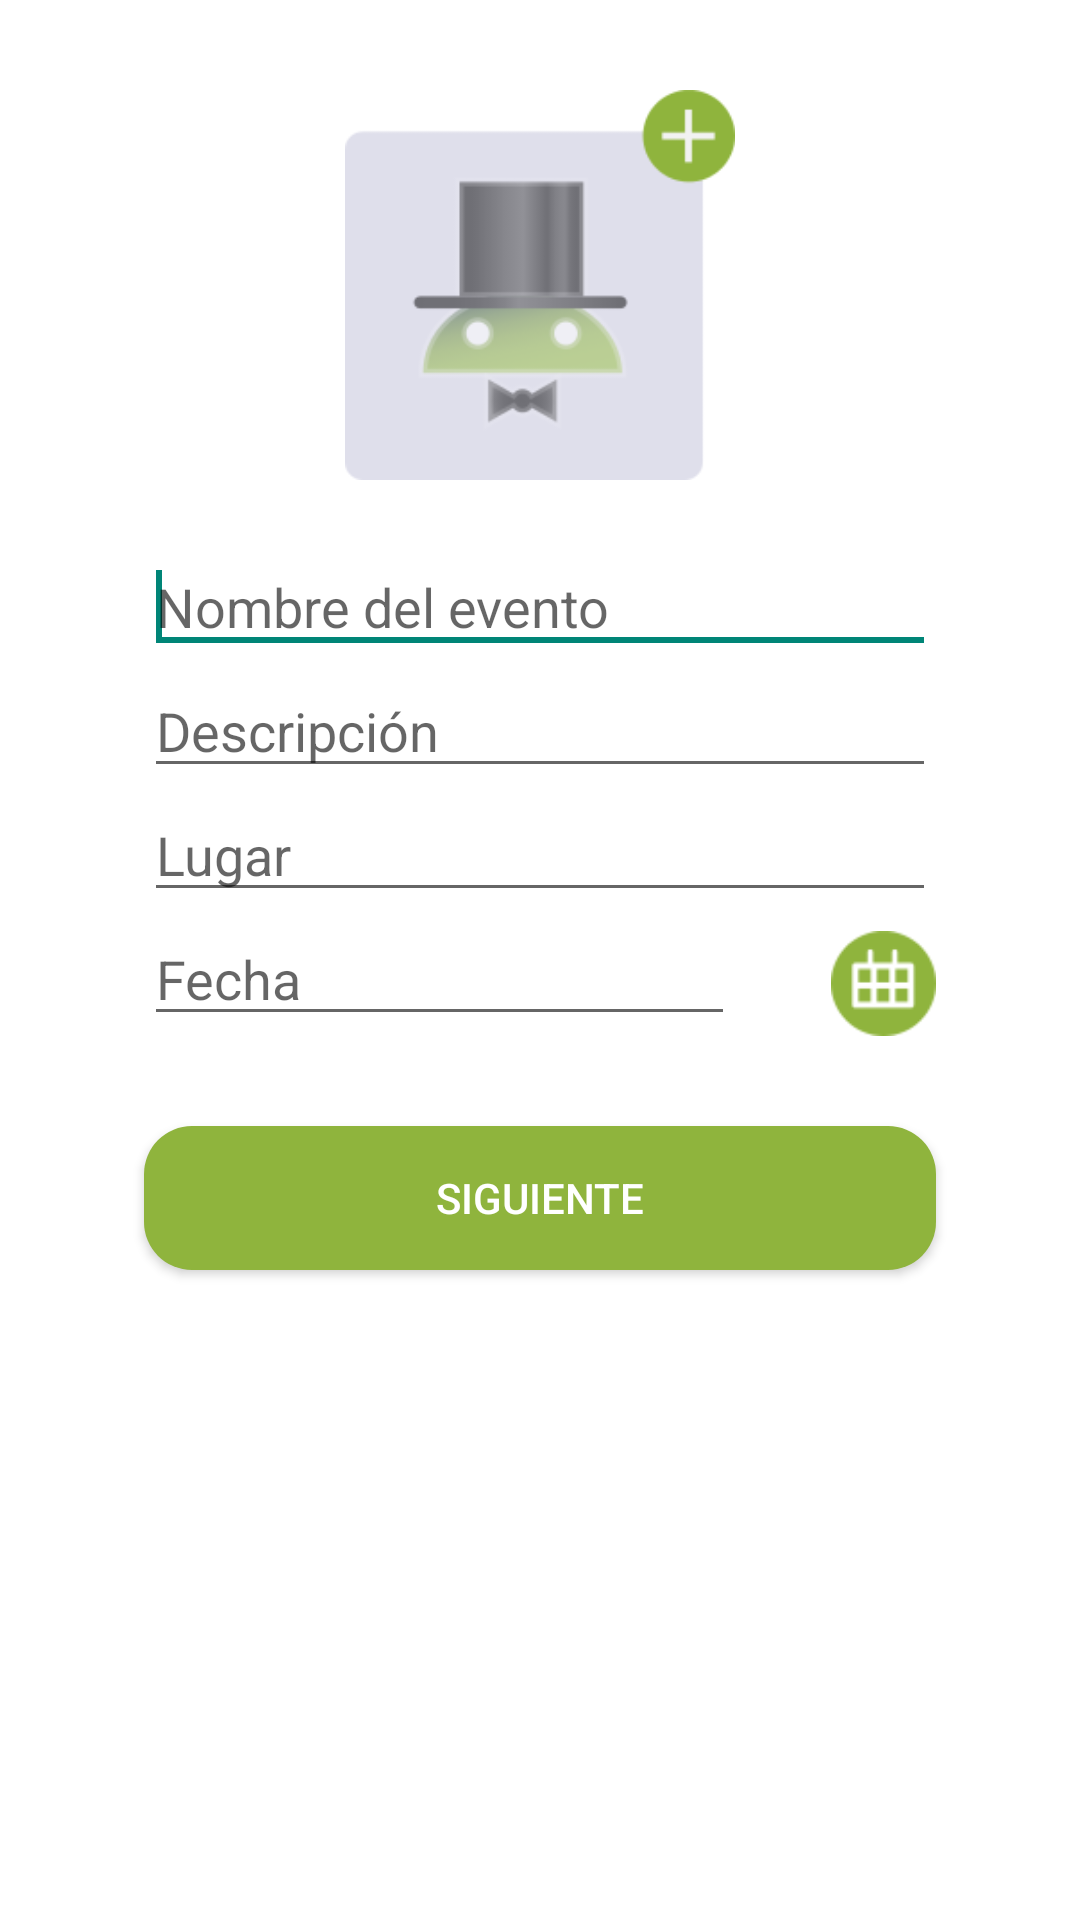

Icon bounding boxes for this 1080x1920 phone screenshot, format box(x1, y1, x2, y2):
calendar: box(831, 931, 936, 1036)
